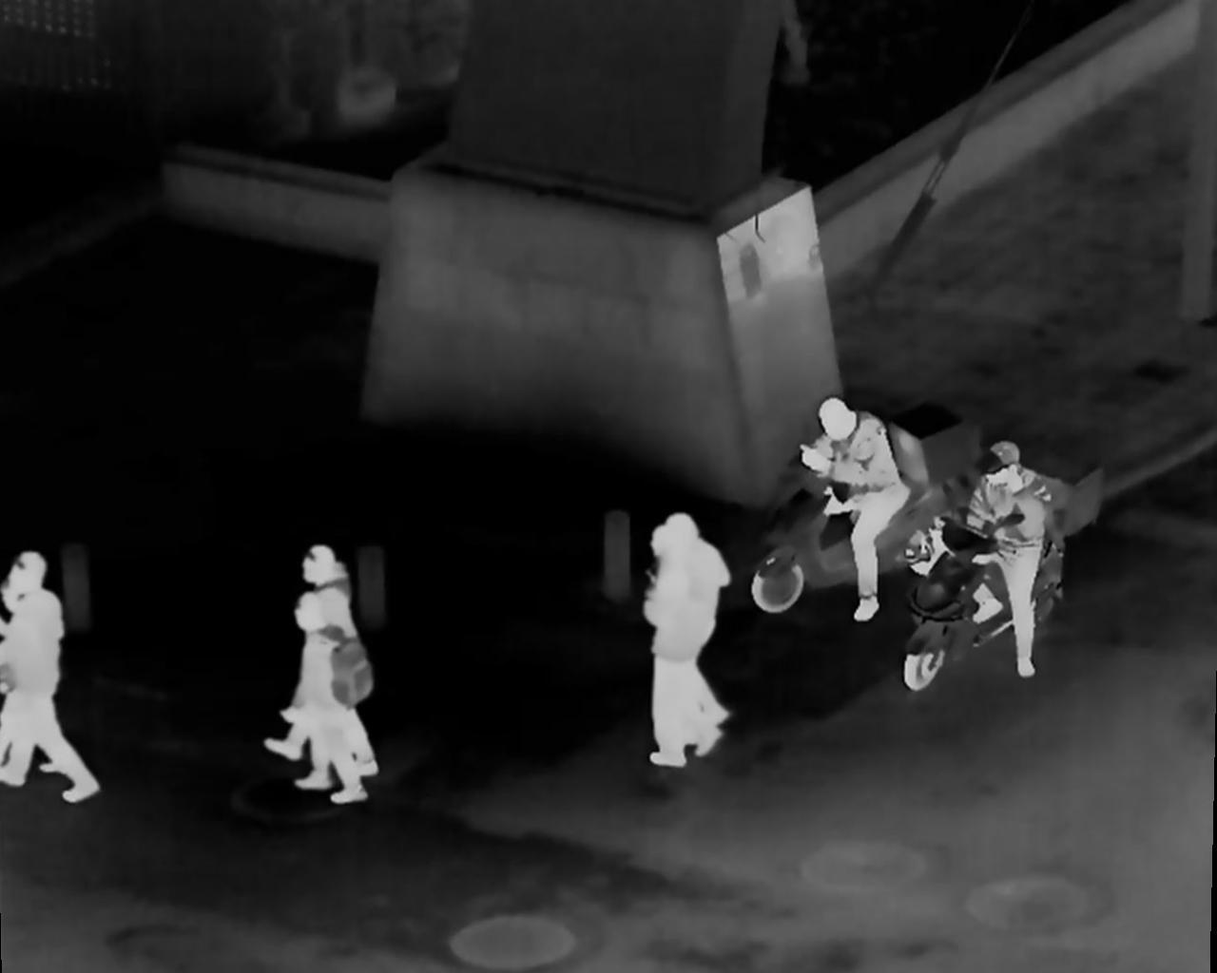person: (261, 542, 386, 772), (939, 448, 1069, 665), (12, 553, 103, 801), (644, 513, 725, 760), (282, 592, 370, 806), (647, 517, 727, 746), (821, 391, 901, 617)
